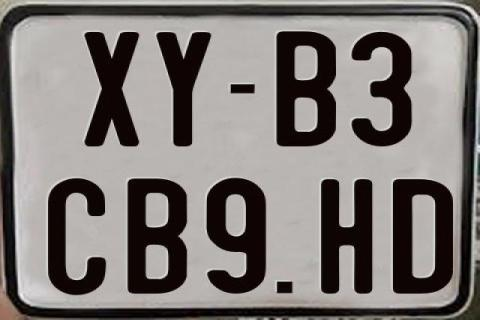0: (205, 177, 269, 297), (350, 30, 411, 148)
B: (127, 176, 189, 295), (274, 31, 334, 147)
C: (48, 176, 112, 294)
D: (391, 178, 456, 294)
H: (319, 177, 375, 295)
X: (83, 30, 138, 146)
Y: (154, 32, 210, 150)
